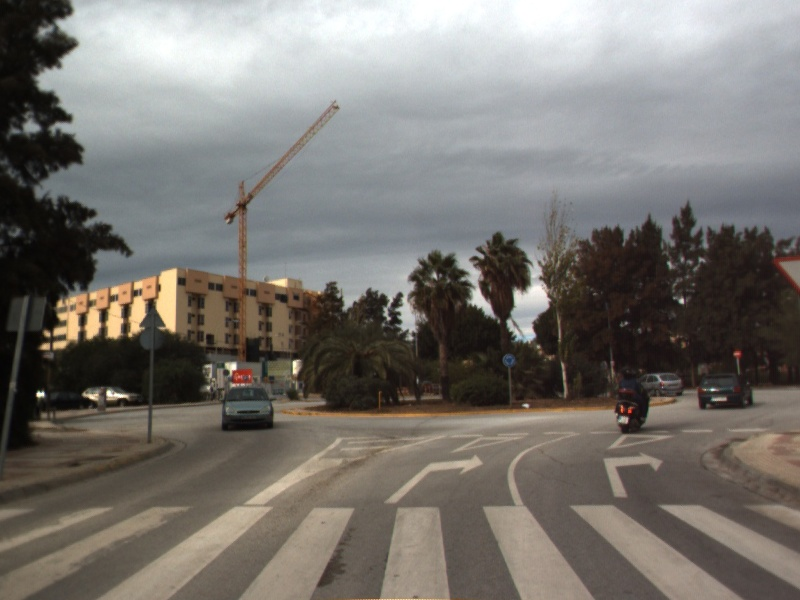RIGHT: (381, 452, 486, 506), (600, 449, 666, 500)
